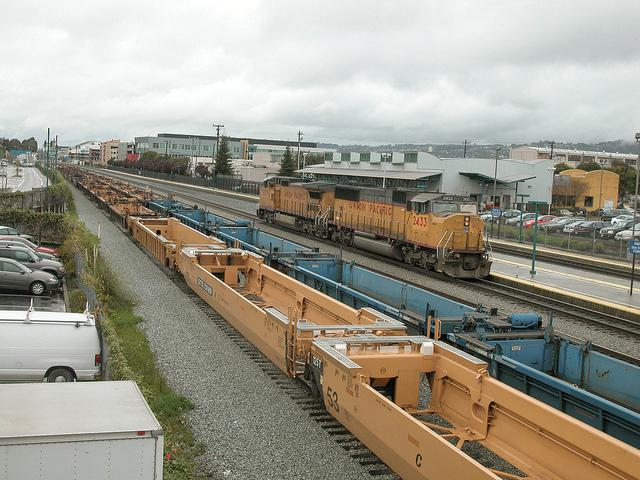Train: (60, 165, 640, 471), (143, 198, 640, 452), (257, 174, 494, 277)
